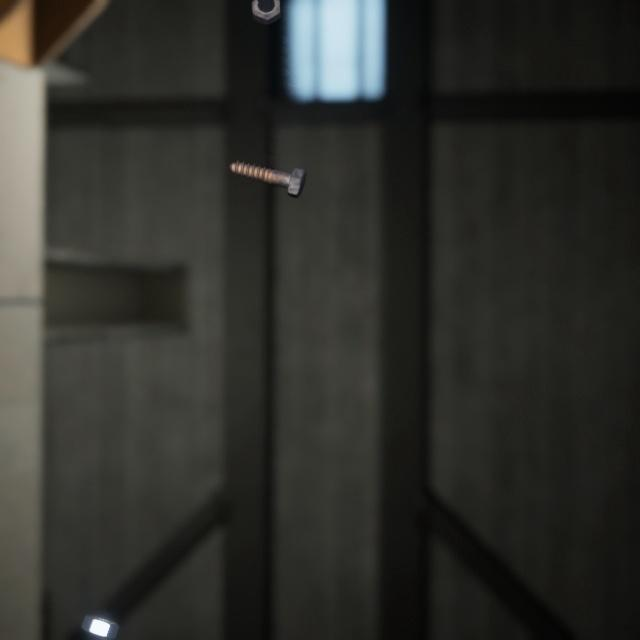bolt: (224, 141, 310, 187), (247, 0, 285, 23)
nut: (77, 586, 123, 619)
